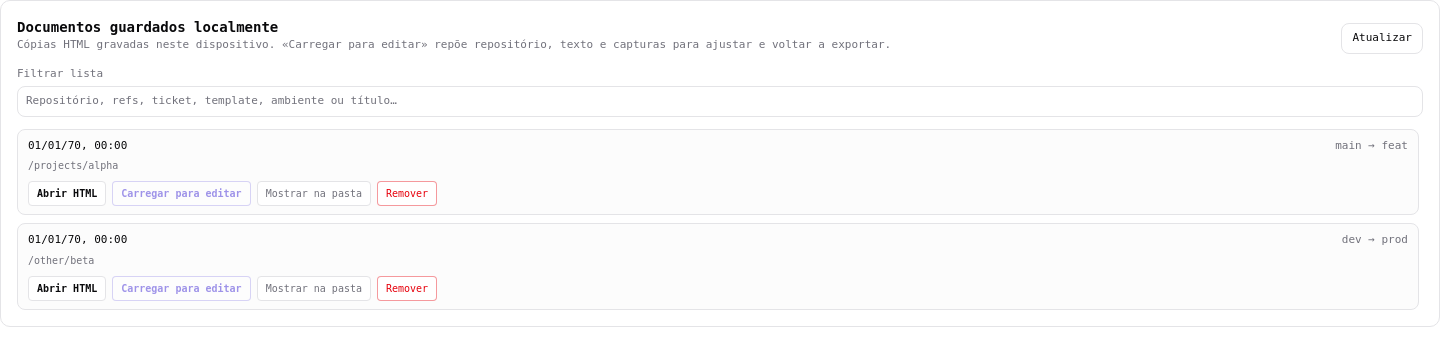
Scenario: SavedEvidenceDocumentsPanel › filtra entradas pelo texto
Type "beta" into the search field with test id "saved-evidence-filter" at [720, 101], box [17,86,1423,116]
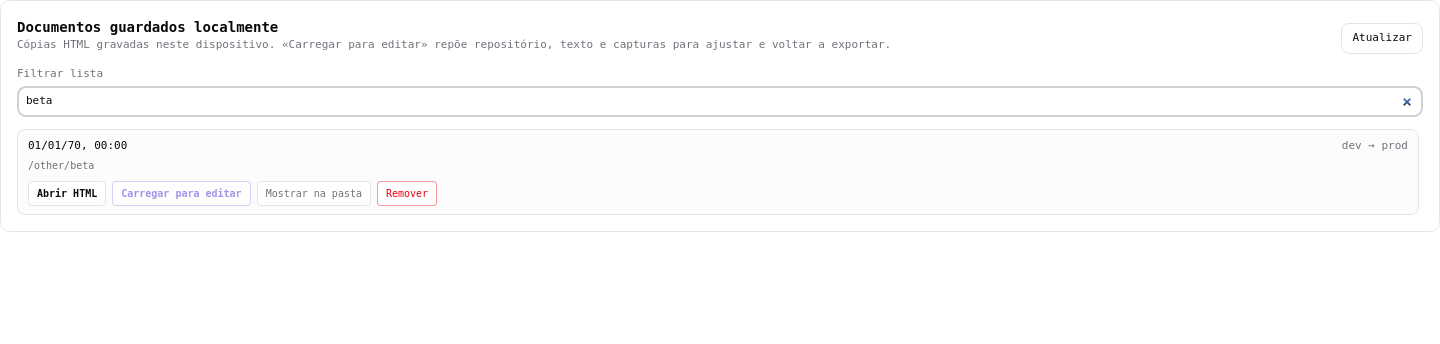
Check: the text "/other/beta" is shown, box [28,160,94,171]
Check: the text "alpha" is gone
